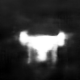plane: (12, 29, 73, 66)
